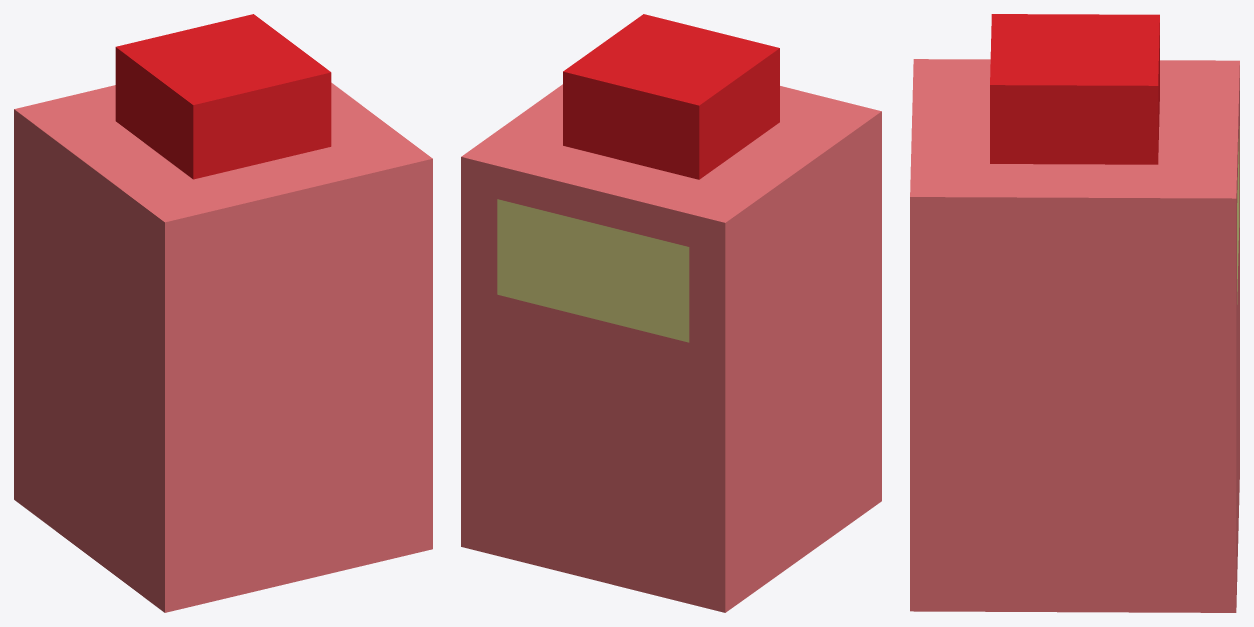
Rendered from Botella02.fbx.
The picture shows the model from 3 angles, left to right: view 1: azimuth 30°, elevation 25°; view 2: azimuth 150°, elevation 25°; view 3: azimuth 270°, elevation 25°; orthographic projection. The views are drawn at different scales.
Visible parts, largest first — view 1: Botella02; view 2: Botella02; view 3: Botella02.
Part boxes in pixels (x1,y1,x2,y2): Botella02: (14, 14, 432, 612); Botella02: (461, 14, 881, 612); Botella02: (910, 14, 1239, 612).
Bounding box in the file's own units: 12.7 × 20.95 × 12.7.
